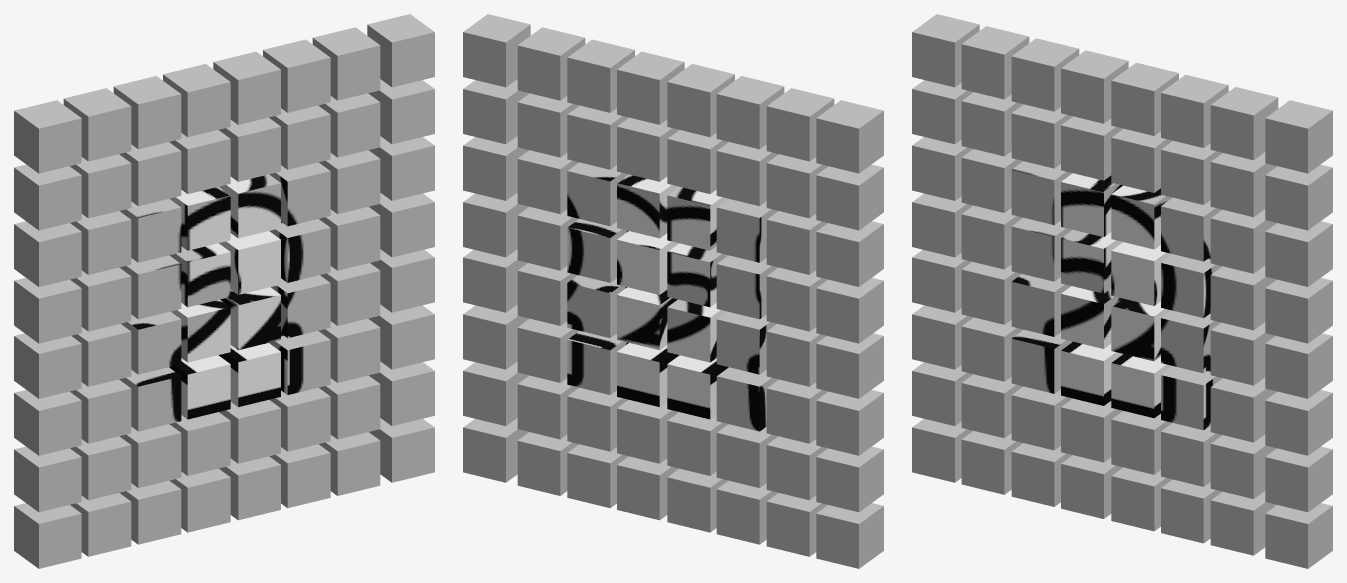
Rendered from DestrctableCube.fbx.
The picture shows the model from 3 angles, left to right: view 1: azimuth 30°, elevation 25°; view 2: azimuth 150°, elevation 25°; view 3: azimuth 330°, elevation 25°; orthographic projection.
Visible parts, largest first — view 1: Cube.063, Cube.007, Cube.035, Cube.014, Cube.042, Cube.021, Cube.049, Cube.056, Cube.028, Cube.004, Cube.006, Cube.002 (+52 smaller); view 2: Cube.063, Cube.007, Cube.035, Cube.014, Cube.042, Cube.021, Cube.049, Cube.056, Cube.028, Cube.004, Cube.006, Cube.002 (+52 smaller); view 3: Cube.056, Cube.057, Cube.061, Cube.058, Cube.062, Cube.059, Cube.064, Cube.006, Cube.060, Cube.003, Cube.001, Cube.005 (+52 smaller).
Part boxes in pixels (box(x1,y1,x2,y2)): Cube.063: box(14, 100, 81, 173); Cube.007: box(14, 164, 81, 230); Cube.035: box(14, 390, 81, 455); Cube.014: box(14, 221, 81, 286); Cube.042: box(14, 446, 81, 512); Cube.021: box(14, 278, 81, 343); Cube.049: box(14, 503, 81, 568); Cube.056: box(367, 14, 434, 87); Cube.028: box(14, 333, 81, 398); Cube.004: box(213, 51, 280, 124); Cube.006: box(312, 27, 380, 100); Cube.002: box(113, 76, 181, 149); Cube.063: box(816, 100, 883, 173); Cube.007: box(816, 164, 883, 230); Cube.035: box(816, 390, 883, 455); Cube.014: box(816, 221, 883, 286); Cube.042: box(816, 446, 883, 512); Cube.021: box(816, 278, 883, 343); Cube.049: box(816, 503, 883, 568); Cube.056: box(463, 14, 530, 87); Cube.028: box(816, 333, 883, 398); Cube.004: box(617, 51, 684, 124); Cube.006: box(517, 27, 585, 100); Cube.002: box(716, 76, 784, 149); Cube.056: box(1265, 100, 1332, 173); Cube.057: box(1265, 164, 1332, 230); Cube.061: box(1265, 390, 1332, 455); Cube.058: box(1265, 221, 1332, 286); Cube.062: box(1265, 446, 1332, 512); Cube.059: box(1265, 278, 1332, 343); Cube.064: box(1265, 503, 1332, 568); Cube.006: box(1210, 87, 1278, 160); Cube.060: box(1265, 333, 1332, 398); Cube.003: box(1061, 50, 1128, 123); Cube.001: box(961, 26, 1029, 99); Cube.005: box(1161, 74, 1228, 147).
Size of the model in its own units: 1846 by 1961 by 200.
Materials: 1 (1 with a texture image).
